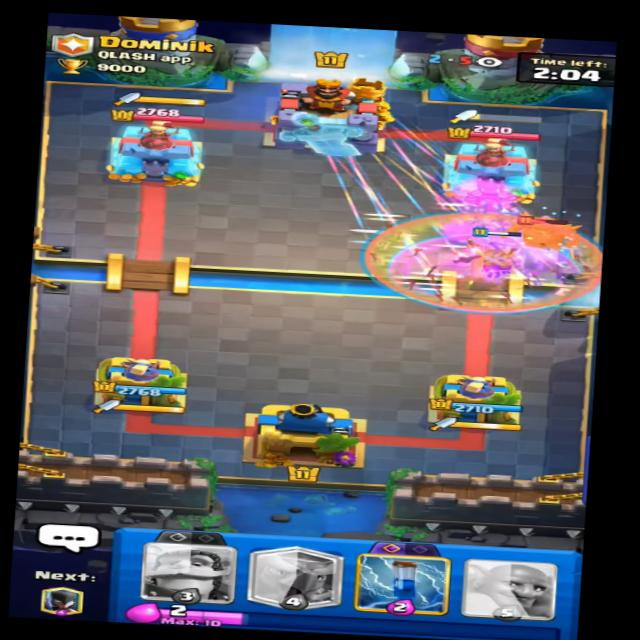arrows: (361, 209, 602, 312)
pekka: (502, 213, 587, 255)
